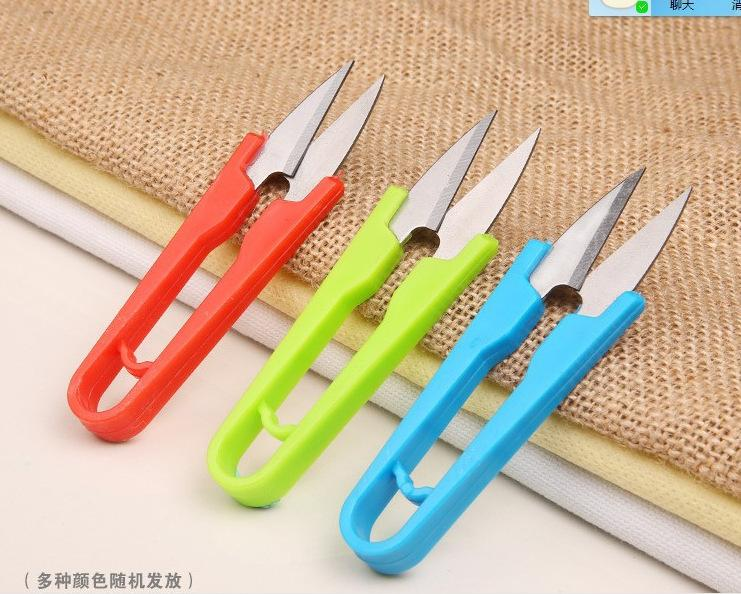scissor: (83, 83, 741, 517)
